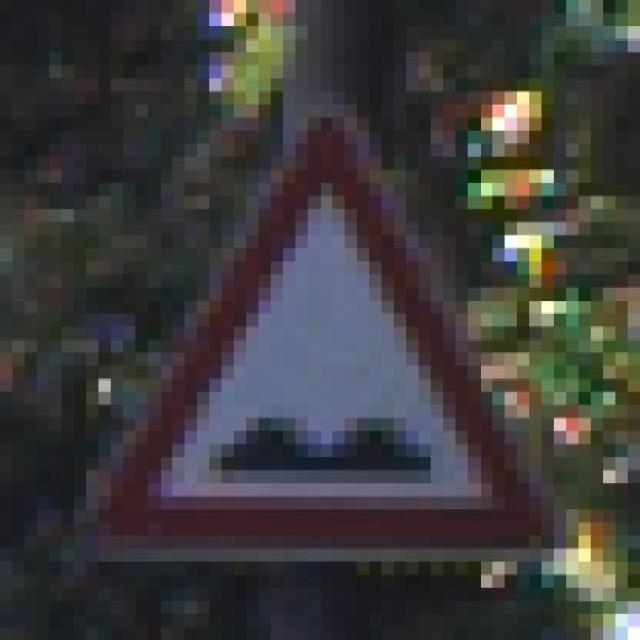Uneven Road: (61, 90, 554, 562)
